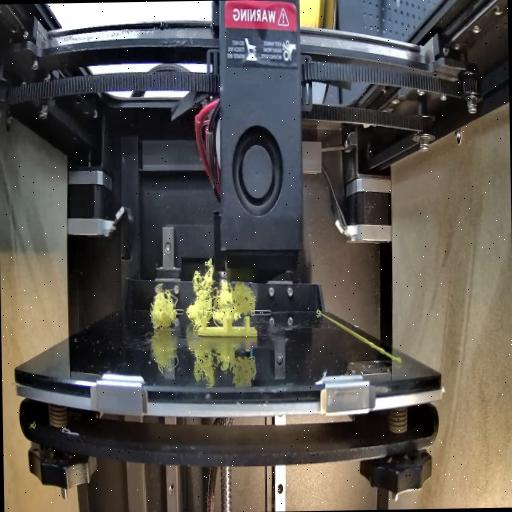spaghetti: (184, 258, 254, 326), (148, 292, 176, 326)
